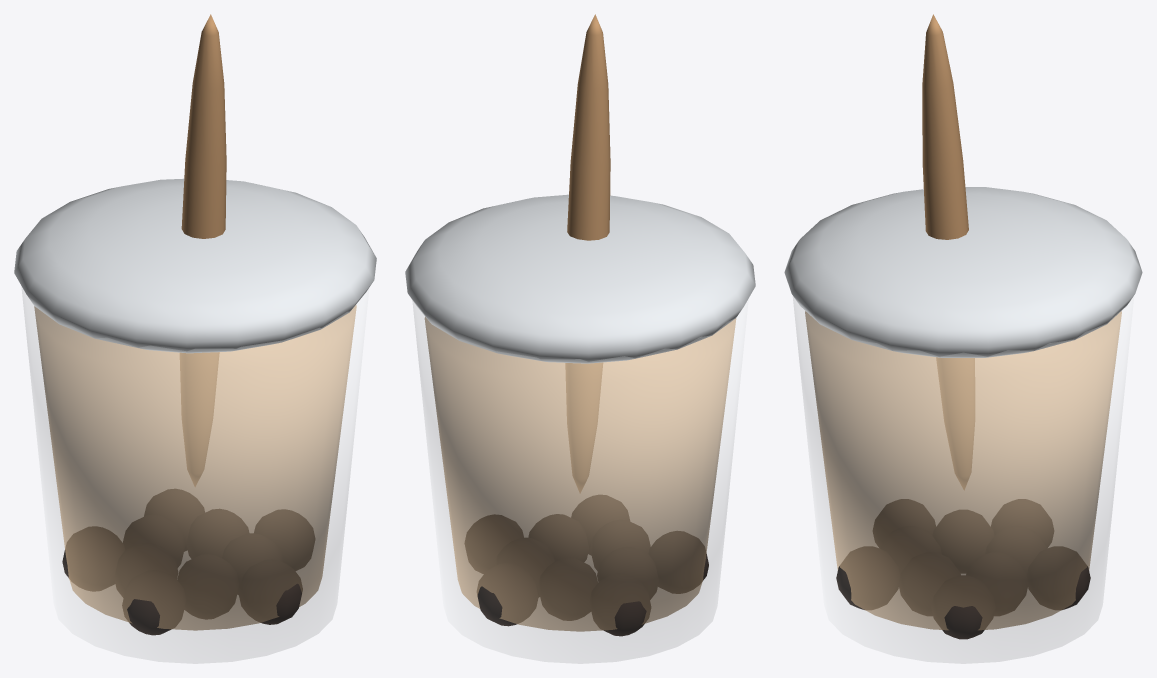
The model's file is boba_cup.glb.
The picture shows the model from 3 angles, left to right: view 1: azimuth 30°, elevation 25°; view 2: azimuth 150°, elevation 25°; view 3: azimuth 270°, elevation 25°; orthographic projection. The views are drawn at different scales.
Parts seen in each view (by area): view 1: CupShell, MilkTea, CupLid, BobaStraw, Pearl_8, Pearl_6, Pearl_7, Pearl_4, Pearl_0, Pearl_1, Pearl_5, Pearl_3 (+2 smaller); view 2: CupShell, MilkTea, CupLid, BobaStraw, Pearl_2, Pearl_4, Pearl_6, Pearl_3, Pearl_0, Pearl_9, Pearl_5, Pearl_7 (+2 smaller); view 3: CupShell, MilkTea, CupLid, BobaStraw, Pearl_0, Pearl_2, Pearl_8, Pearl_5, Pearl_1, Pearl_9, Pearl_4, Pearl_6 (+2 smaller).
Boxes of the visible parts, x1,y1,x2,y2 form: CupShell: (22,288,368,663); MilkTea: (34,305,356,630); CupLid: (14,178,376,353); BobaStraw: (180,14,226,486); Pearl_8: (239,560,302,624); Pearl_6: (122,570,185,635); Pearl_7: (178,554,238,618); Pearl_4: (62,527,124,590); Pearl_0: (254,510,314,570); Pearl_1: (187,509,248,558); Pearl_5: (115,543,177,596); Pearl_3: (123,515,184,566); CupShell: (413,301,747,663); MilkTea: (424,317,736,631); CupLid: (405,194,755,363); BobaStraw: (566,14,610,492); Pearl_2: (477,563,537,626); Pearl_4: (590,573,650,636); Pearl_6: (649,531,708,593); Pearl_3: (538,558,597,620); Pearl_0: (465,515,523,573); Pearl_9: (529,514,588,561); Pearl_5: (597,547,658,599); Pearl_7: (591,520,649,570); CupShell: (793,297,1133,663); MilkTea: (805,311,1121,630); CupLid: (784,187,1142,357); BobaStraw: (922,14,974,489); Pearl_0: (932,576,994,639); Pearl_2: (1027,547,1090,609); Pearl_8: (836,547,899,609); Pearl_5: (933,510,993,572); Pearl_1: (966,553,1027,615); Pearl_9: (899,553,960,615); Pearl_4: (991,499,1053,547); Pearl_6: (873,499,935,547).
Size of the model in its own units: 0.2415 by 0.4443 by 0.244.
